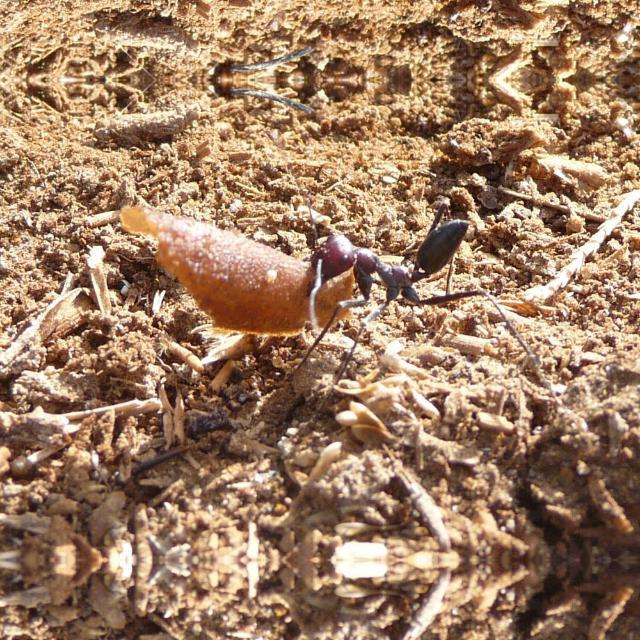Cataglyphis: (280, 206, 500, 334)
